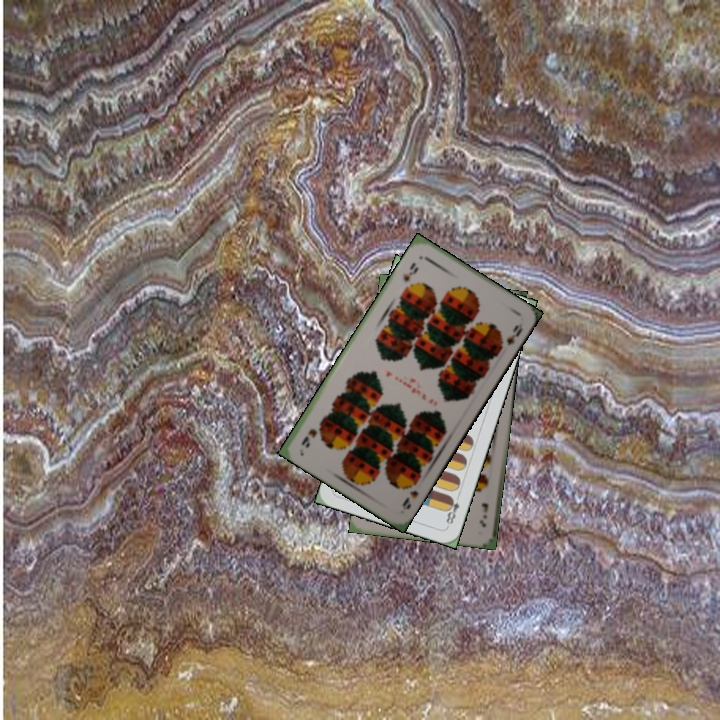E7: (476, 498, 491, 529)
E8: (442, 490, 463, 529)
S9: (398, 475, 422, 512), (399, 258, 421, 284)
